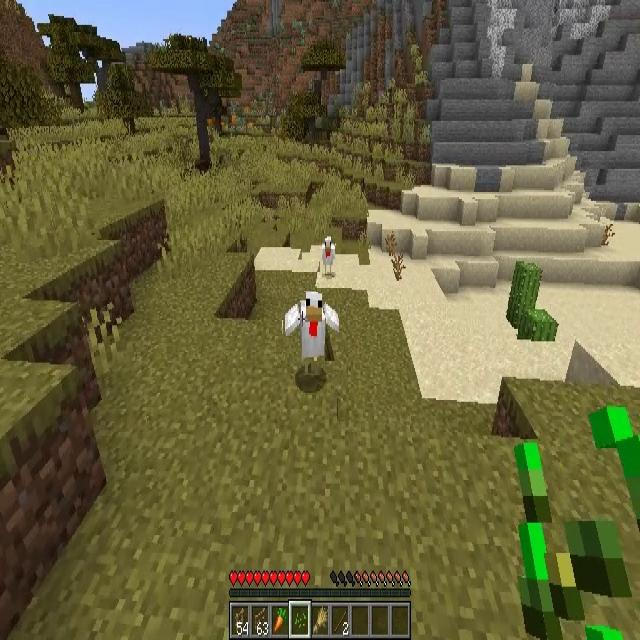duck: (283, 292, 339, 374), (322, 235, 335, 275)
